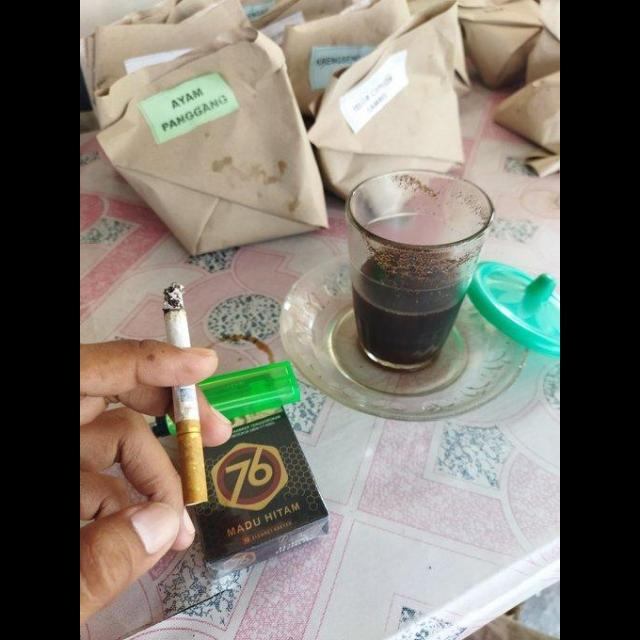rokok: (156, 279, 217, 516)
